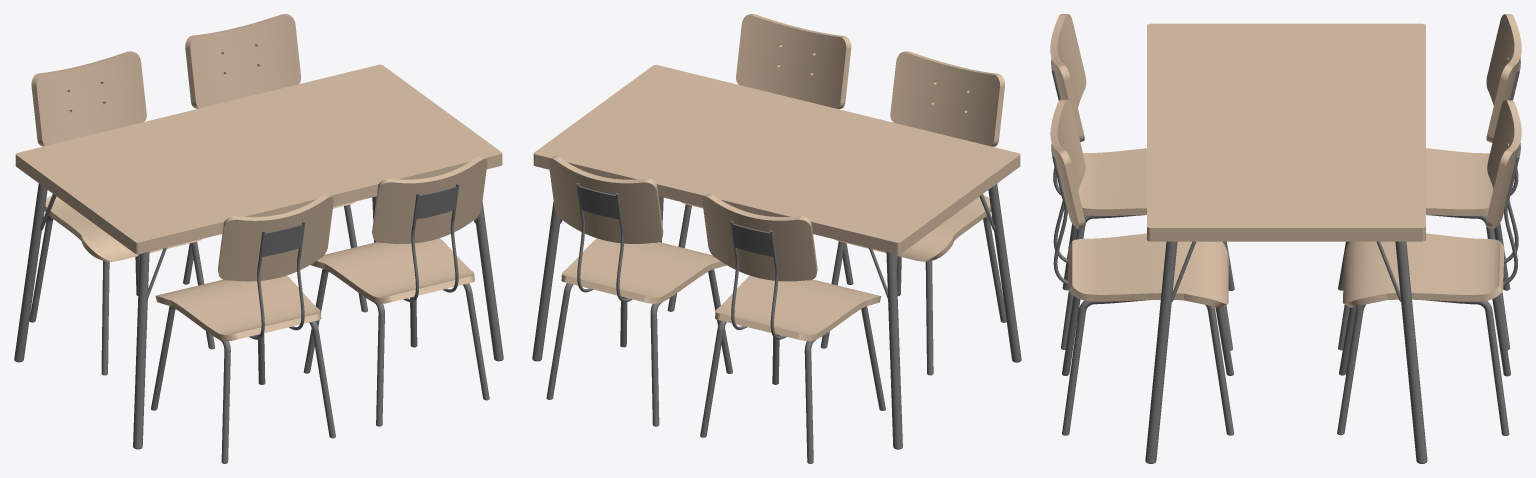
Rendered from 568_ダイニングテーブルセット4人掛け.glb.
The picture shows the model from 3 angles, left to right: view 1: azimuth 30°, elevation 25°; view 2: azimuth 150°, elevation 25°; view 3: azimuth 270°, elevation 25°; orthographic projection. The views are drawn at different scales.
Visible parts, largest first — view 1: Body, chair4, chair3, chair1, chair2; view 2: Body, chair1, chair2, chair4, chair3; view 3: Body, chair3, chair2, chair4, chair1.
Part boxes in pixels (box(x1,y1,x2,y2)): Body: box(14, 64, 503, 449); chair4: box(151, 194, 335, 463); chair3: box(303, 156, 489, 426); chair1: box(29, 51, 214, 375); chair2: box(183, 14, 367, 336); Body: box(532, 65, 1021, 449); chair1: box(700, 193, 885, 463); chair2: box(546, 155, 732, 426); chair4: box(820, 51, 1006, 375); chair3: box(667, 14, 853, 336); Body: box(1145, 23, 1427, 463); chair3: box(1050, 99, 1234, 435); chair2: box(1337, 100, 1521, 435); chair4: box(1050, 14, 1234, 350); chair1: box(1338, 14, 1521, 350).
Size of the model in its own units: 1.31 by 0.8281 by 1.27.
